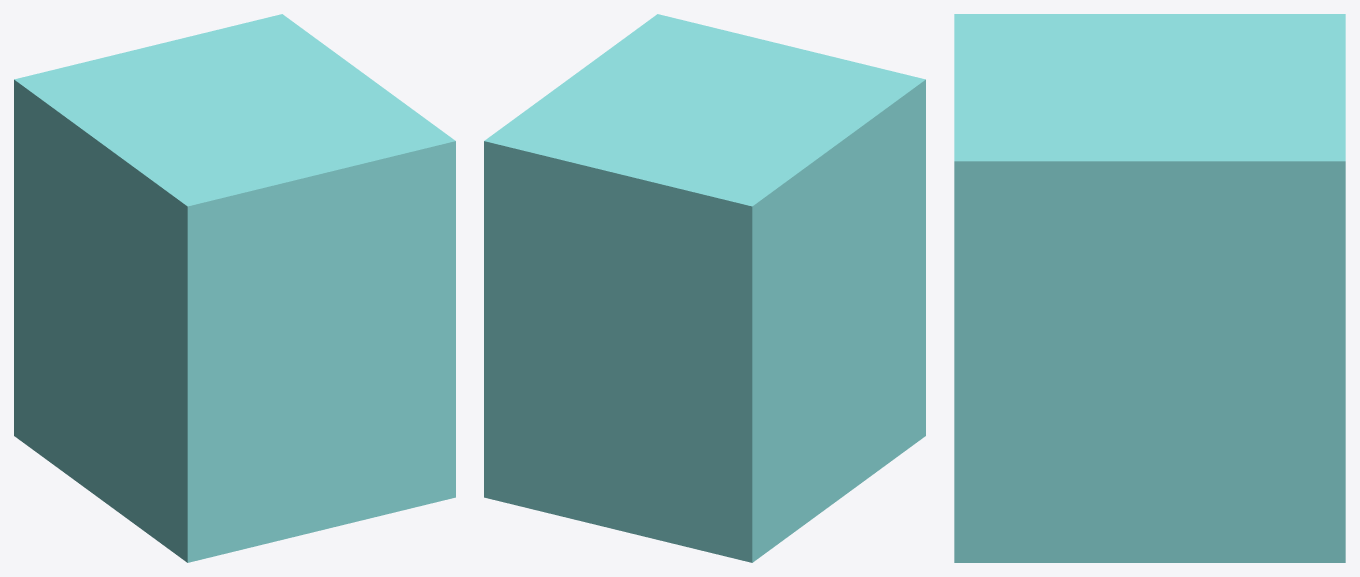
The picture shows the model from 3 angles, left to right: view 1: azimuth 30°, elevation 25°; view 2: azimuth 150°, elevation 25°; view 3: azimuth 270°, elevation 25°; orthographic projection. The views are drawn at different scales.
Parts seen in each view (by area): view 1: cuboid; view 2: cuboid; view 3: cuboid.
Part boxes in pixels (left/top/right/bottom): cuboid: left=14, top=14, right=455, bottom=562; cuboid: left=484, top=14, right=925, bottom=562; cuboid: left=954, top=14, right=1345, bottom=562.
Bounding box in the file's own units: 0.8813 × 1.12 × 0.9875.
Materials: 2 (2 with a texture image).
